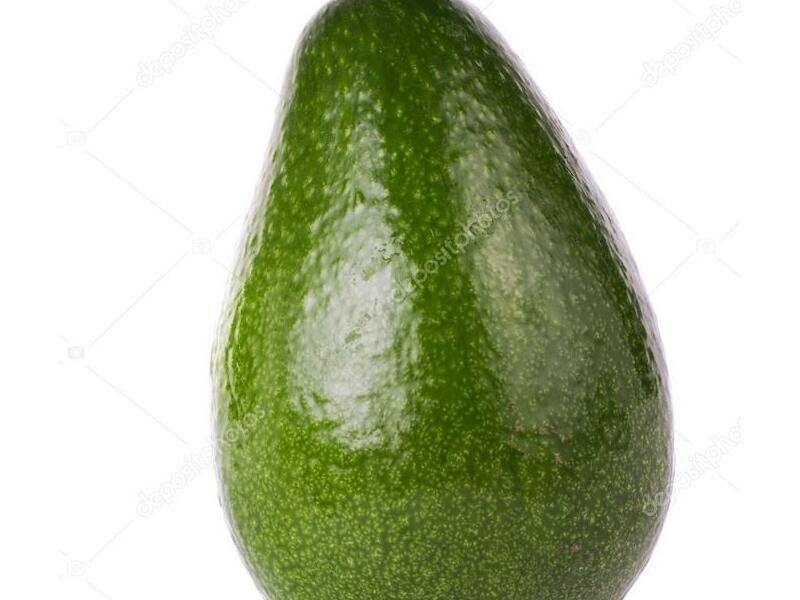abacate: (210, 1, 677, 600)
